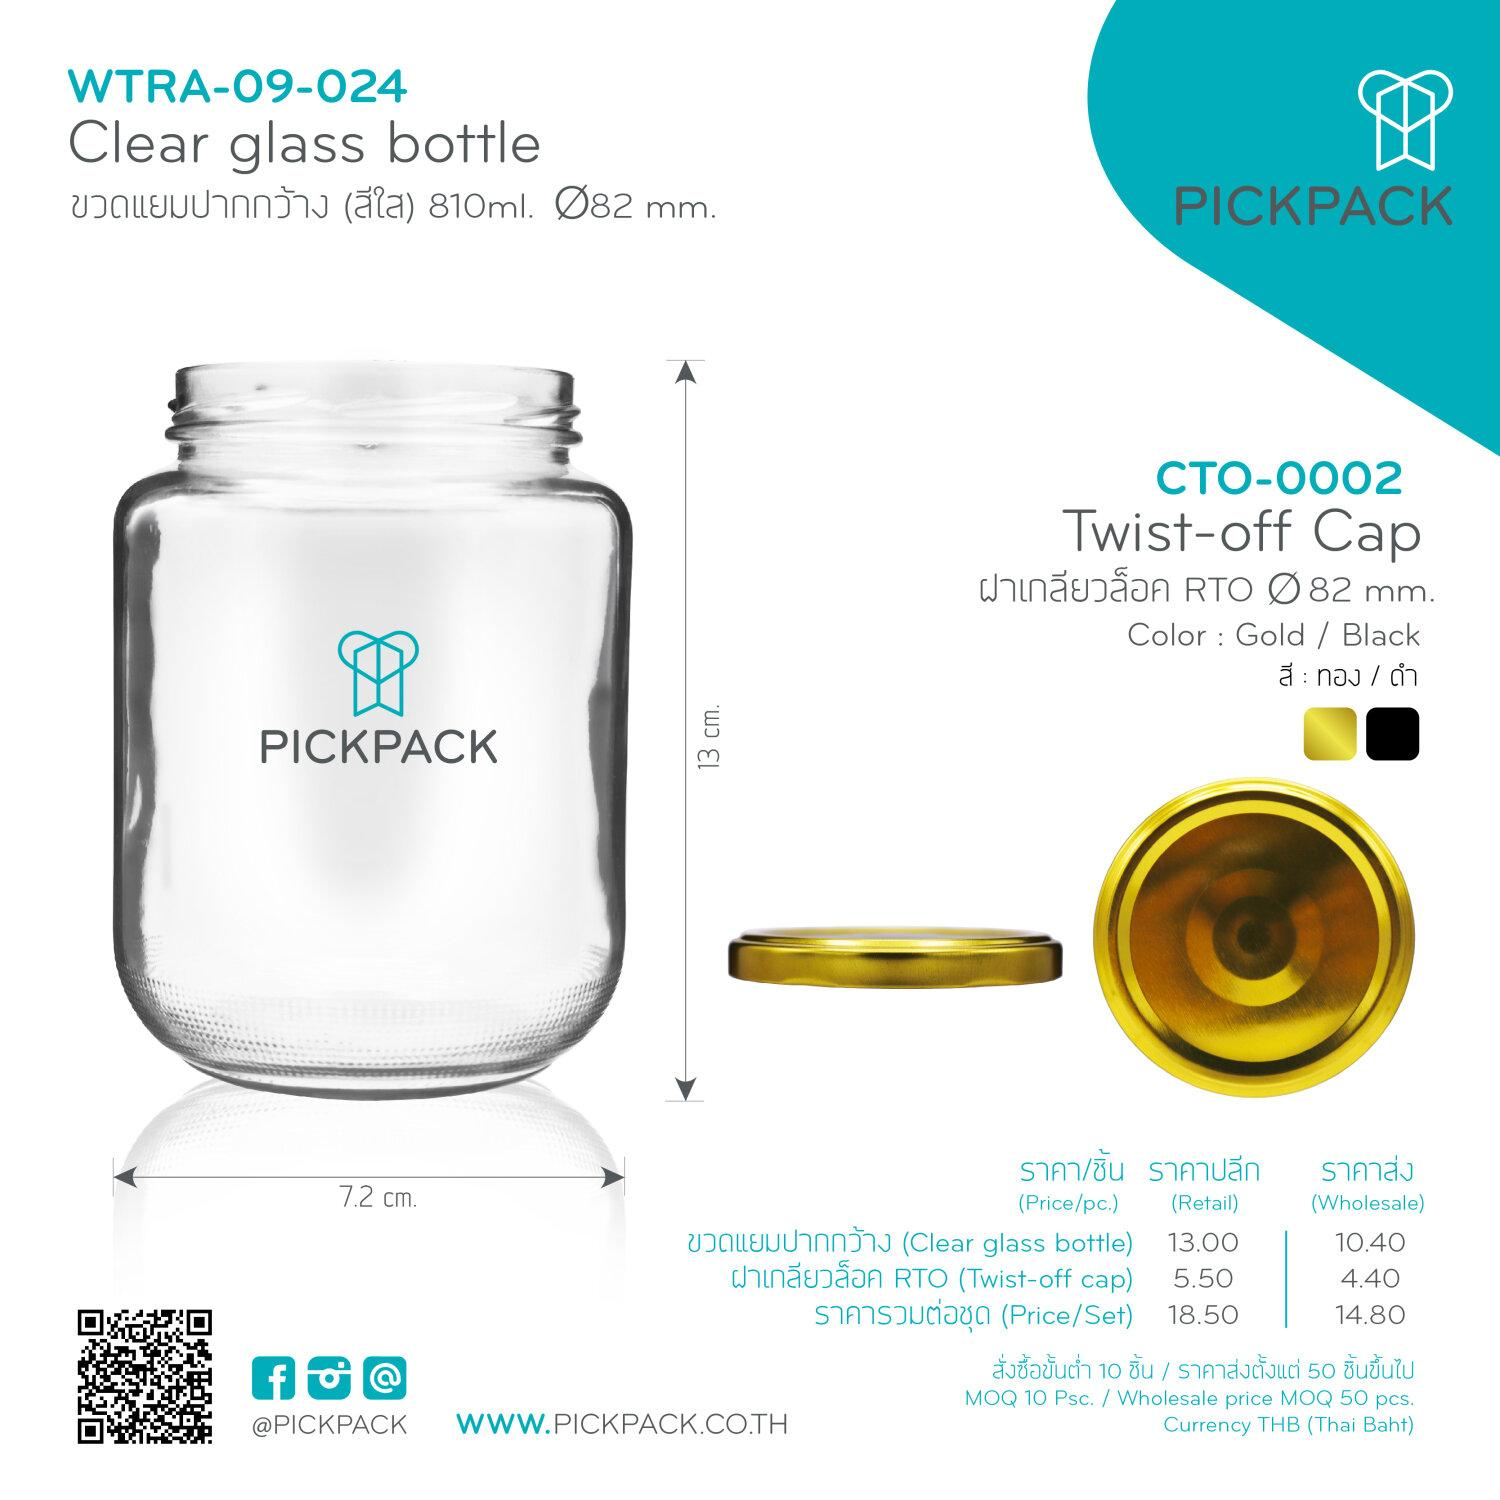glass_bottle: (100, 350, 648, 1120)
